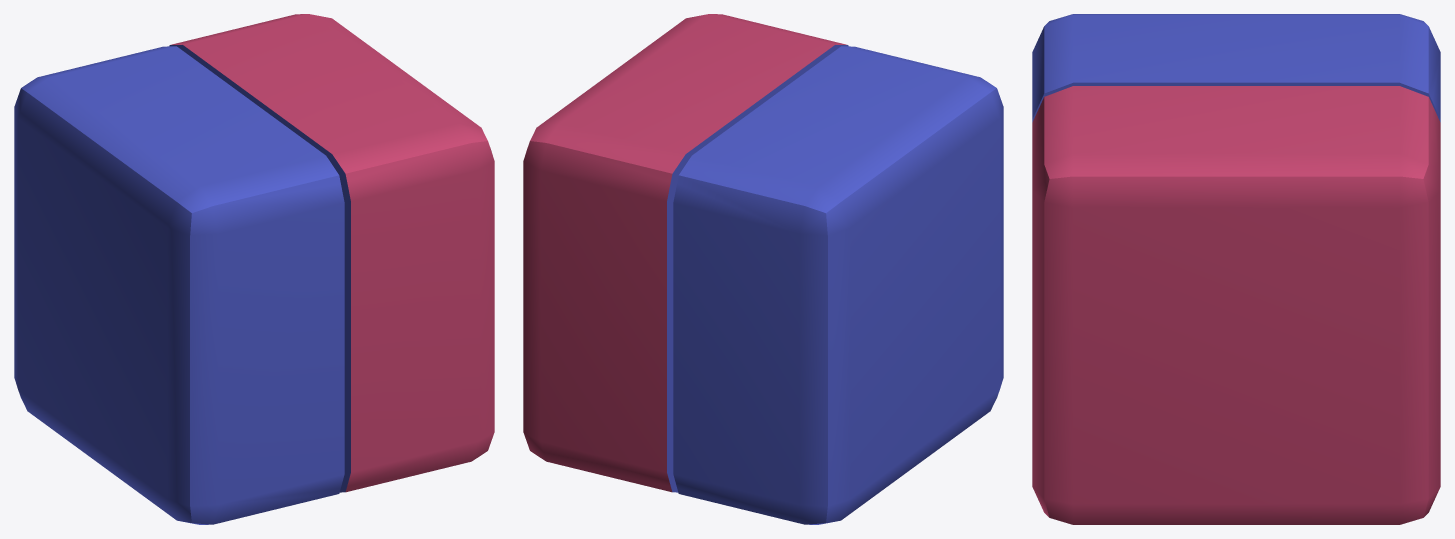
The model's file is combined piece.fbx.
3 renders of one model, left to right at view 1: azimuth 30°, elevation 25°; view 2: azimuth 150°, elevation 25°; view 3: azimuth 270°, elevation 25°, orthographic. The views are drawn at different scales.
Visible parts, largest first — view 1: group44_pasted__group34_pasted__pasted__group8_pasted__paste; view 2: group44_pasted__group34_pasted__pasted__group8_pasted__paste; view 3: group44_pasted__group34_pasted__pasted__group8_pasted__paste.
Part boxes in pixels (x1=…): group44_pasted__group34_pasted__pasted__group8_pasted__paste: x1=14, y1=14, x2=494, y2=524; group44_pasted__group34_pasted__pasted__group8_pasted__paste: x1=523, y1=14, x2=1003, y2=524; group44_pasted__group34_pasted__pasted__group8_pasted__paste: x1=1032, y1=14, x2=1440, y2=524.
Size of the model in its own units: 1 by 1 by 1.
